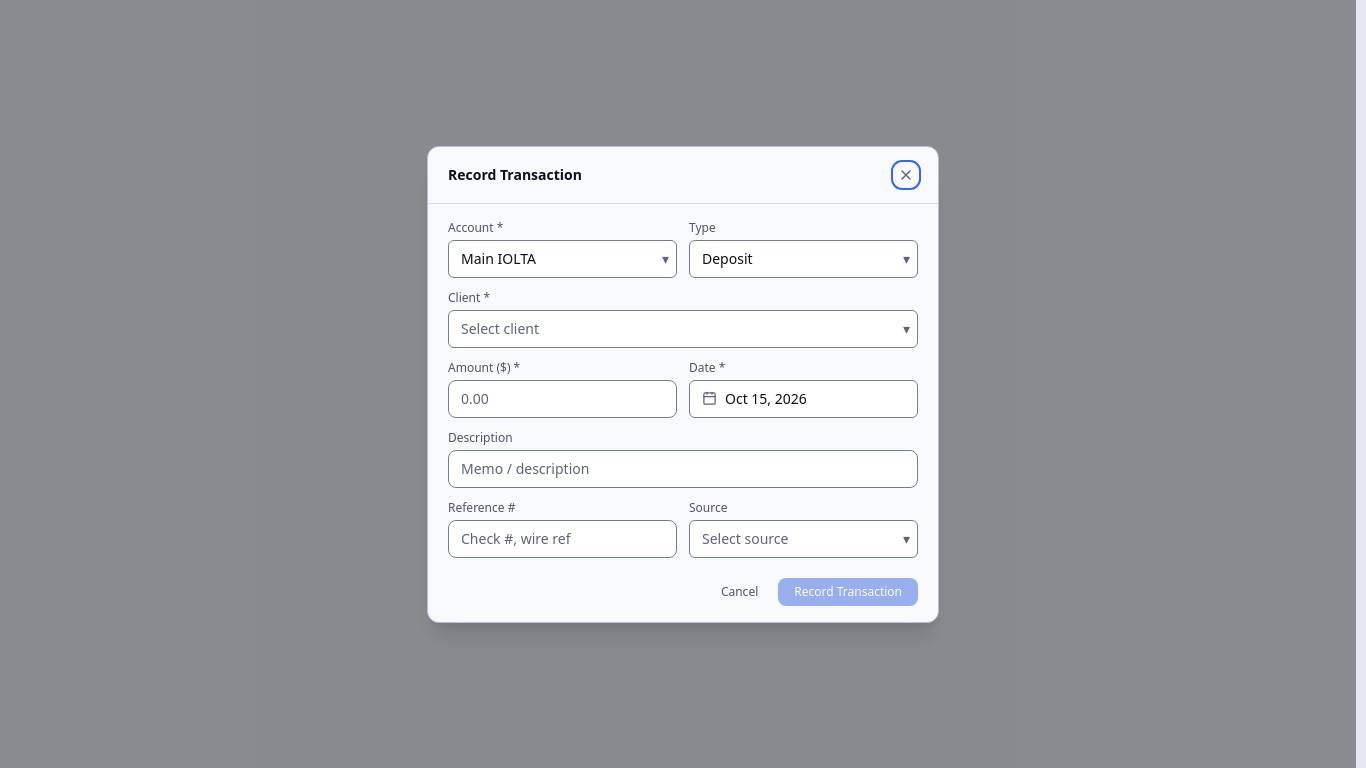
Test: the amount field refuses what is not money › refuses a negative amount before building any request
Click the text "Select client" at (500, 328), box [461,318,539,338]
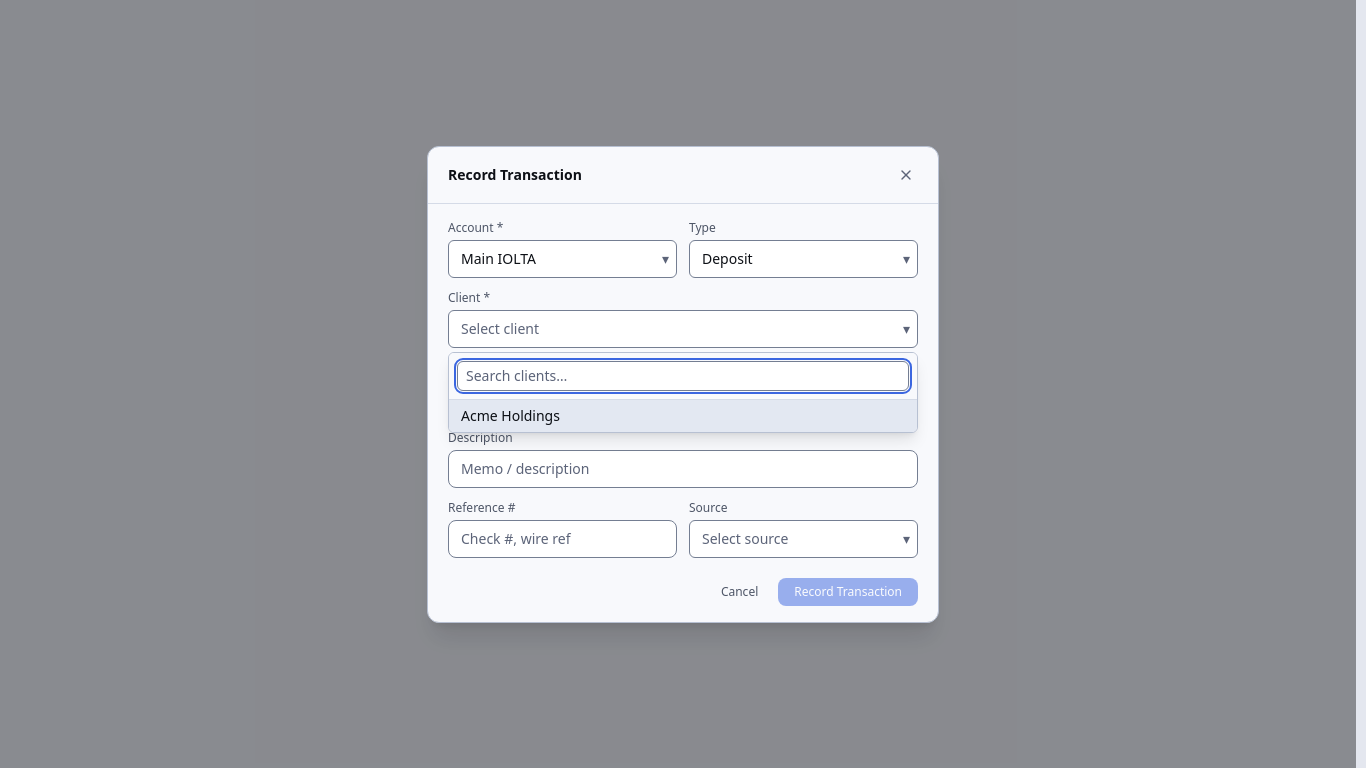
Click the option "Acme Holdings" at (510, 415), box [449,400,917,432]
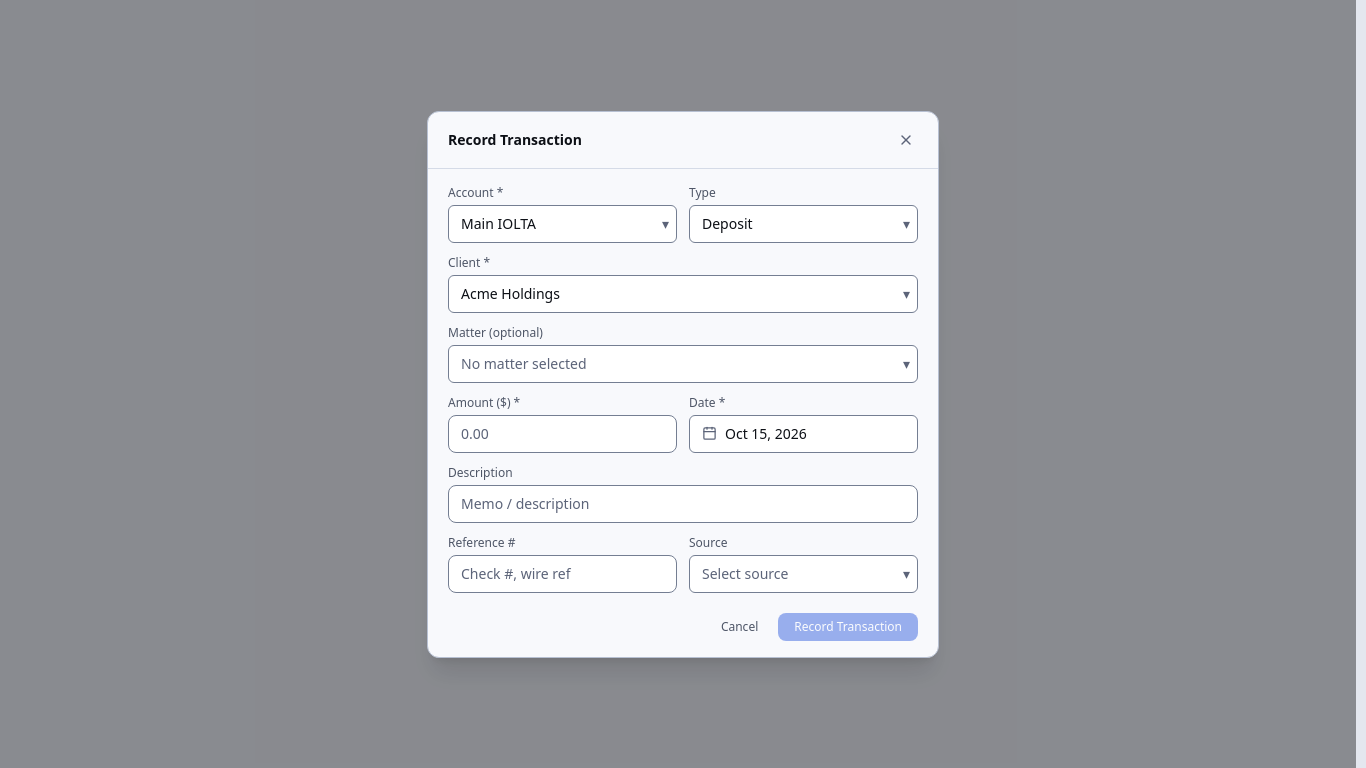
Result: the button "Select client" is gone
Type "-500" into the number field with placeholder "0.00" at (562, 434), box [448,414,677,452]
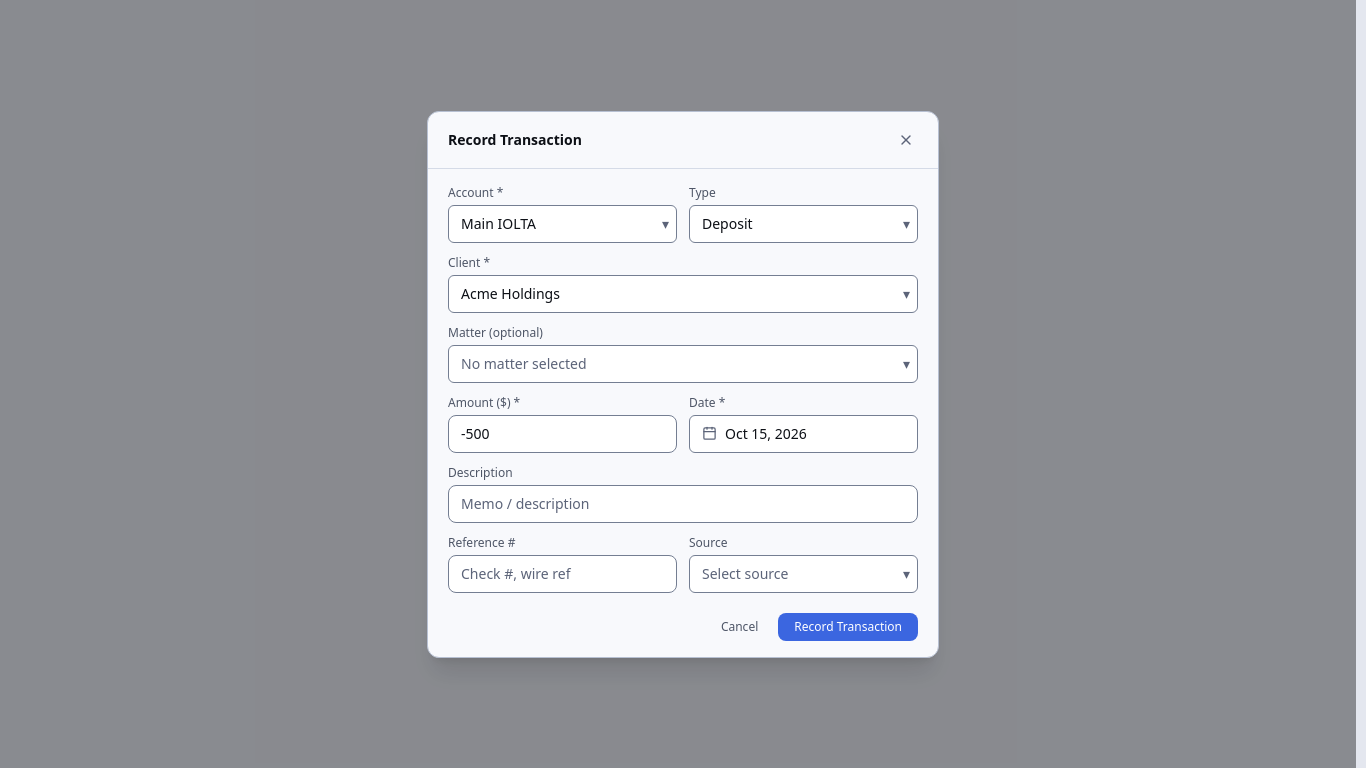
Submit the form, box [428,168,938,656]
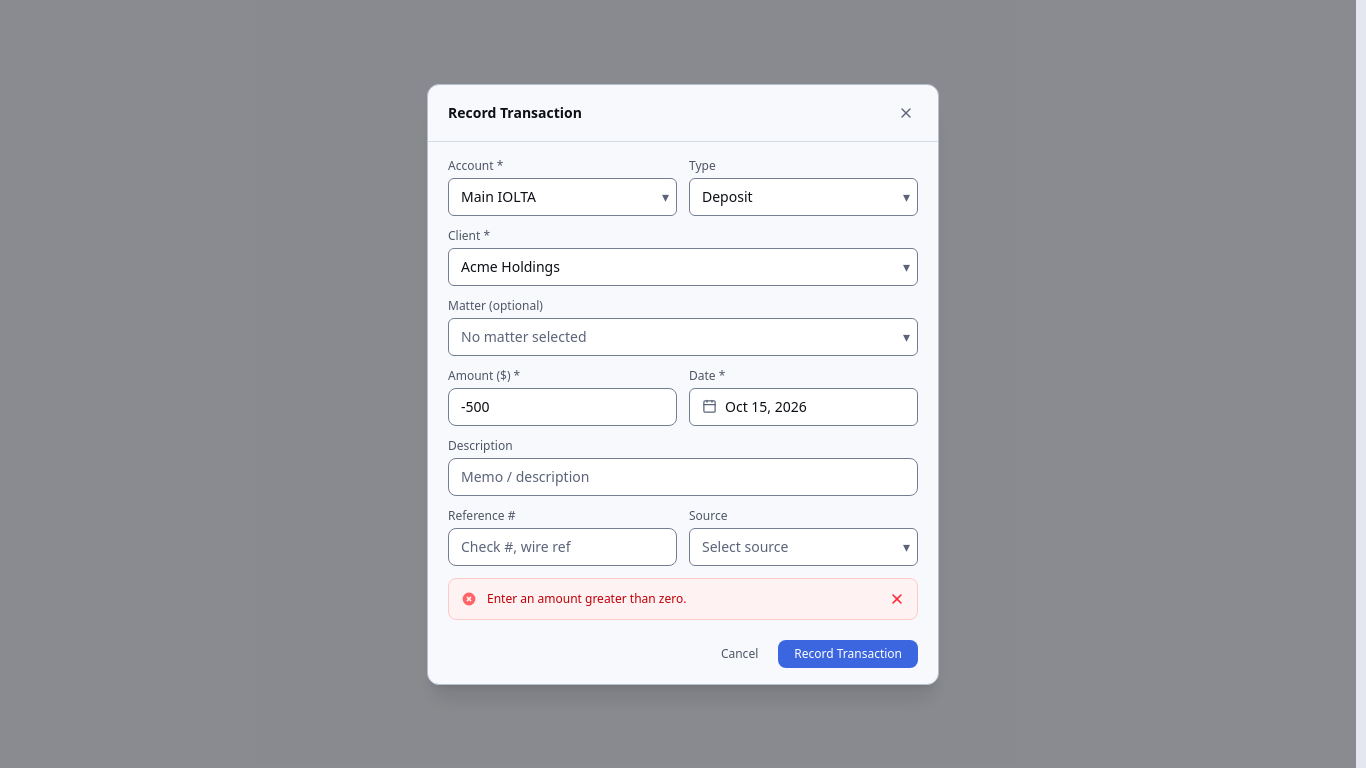
Result: the text "Enter an amount greater than zero." is shown at [487,590,686,606]
